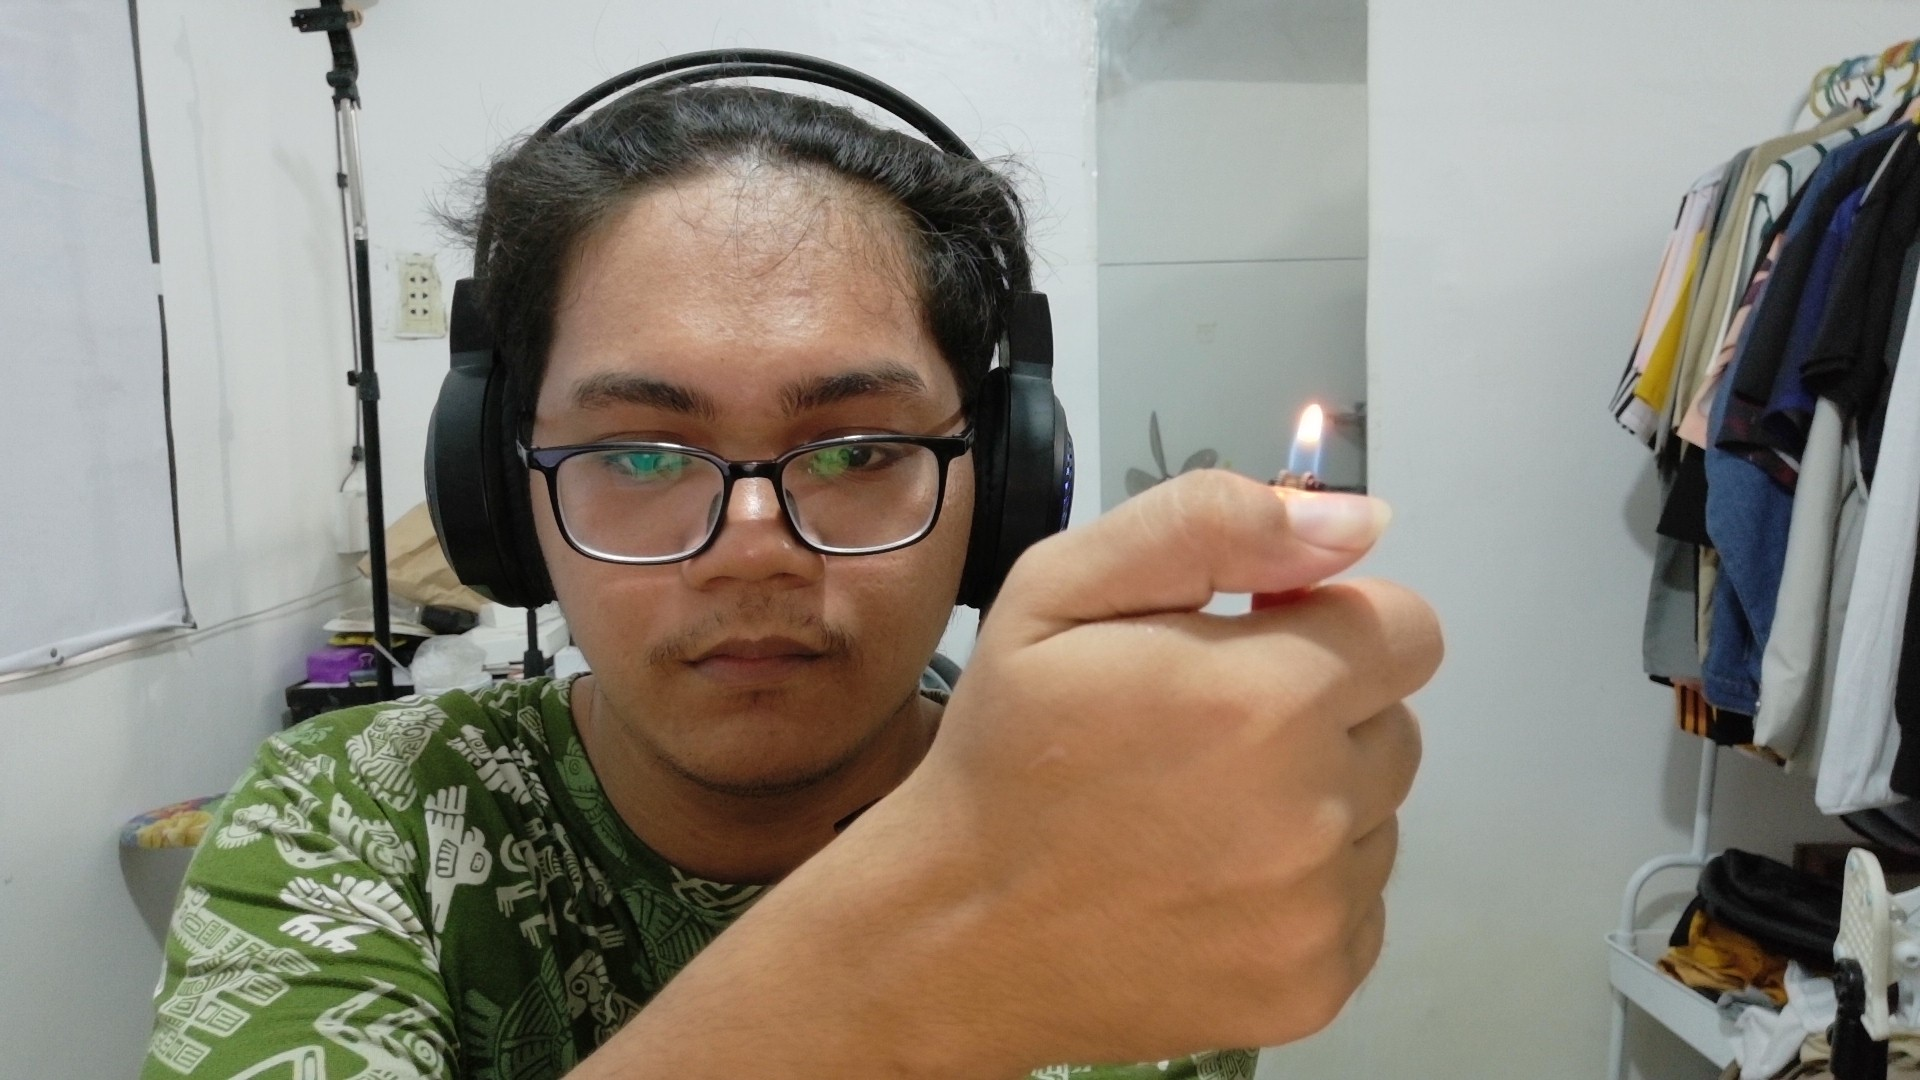fire: (1252, 335, 1360, 527)
